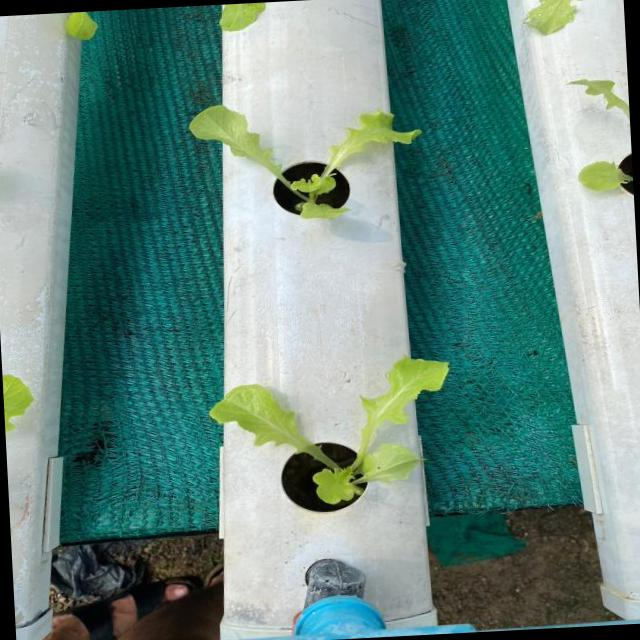Lettuce-Not-Ready-to-Harvest: (210, 358, 448, 505), (190, 105, 419, 218), (569, 78, 630, 119), (526, 0, 579, 35), (3, 373, 34, 431), (578, 161, 633, 190), (221, 3, 266, 31), (64, 12, 97, 41)
